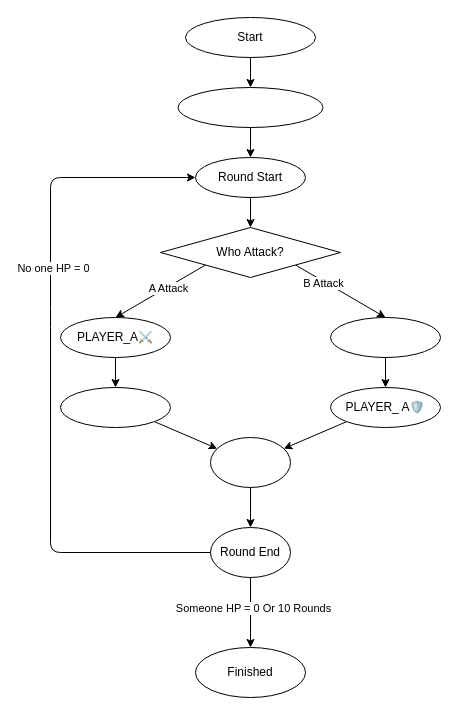
The diagram is 458 pixels wide and 715 high, and some of its shapes have lost their labels. Each missing label, with the centre of its shape:
Fight 💥: the point at 250,462
PLAYER_ B🛡️: the point at 115,407
PLAYER_B⚔️: the point at 385,337
WELCOME: the point at 250,107
